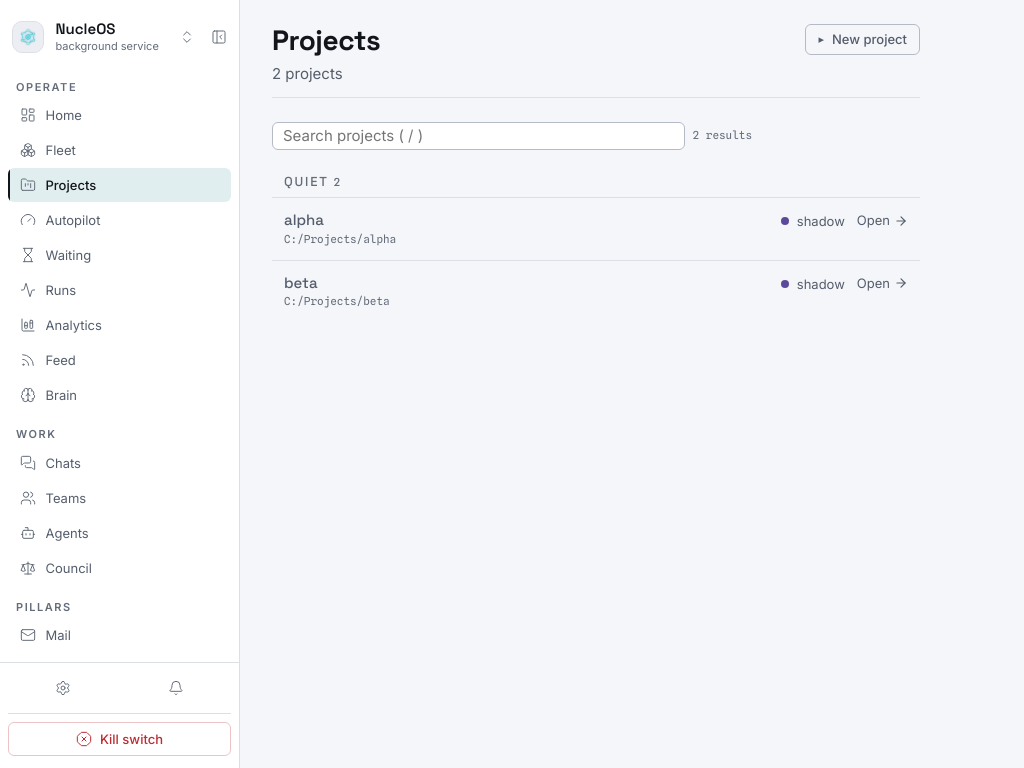
Test: the roster › offers the way out of a search that matches nothing
Check: the element "Quiet" is shown, box [272,174,920,322]
In the search field labelled "Search projects": (478, 136) [272,122,685,150], type "zzz"
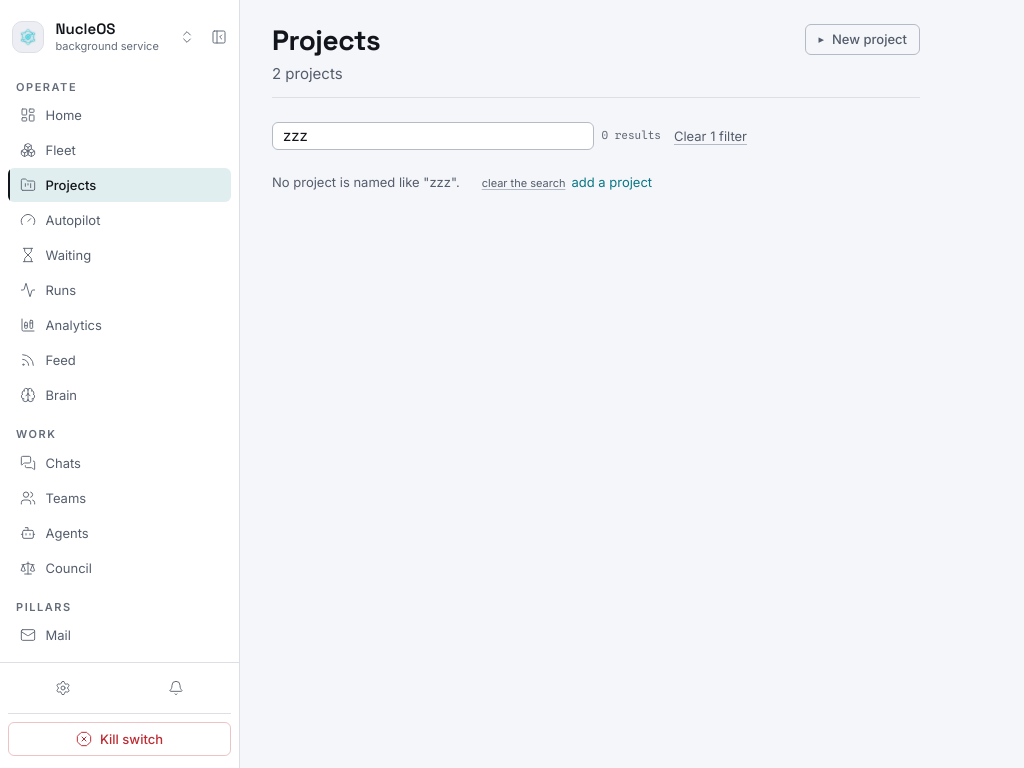
Click the button "clear the search": (524, 183) [476,175,572,192]
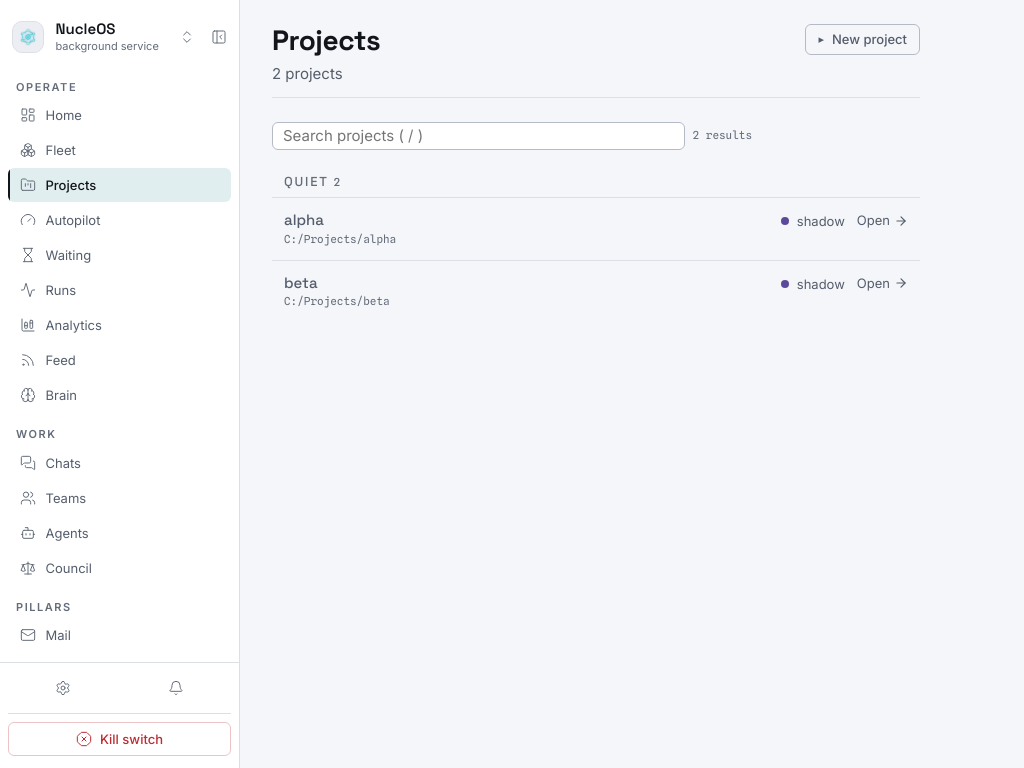
Check: the search field labelled "Search projects" is empty, box [272,122,685,150]
